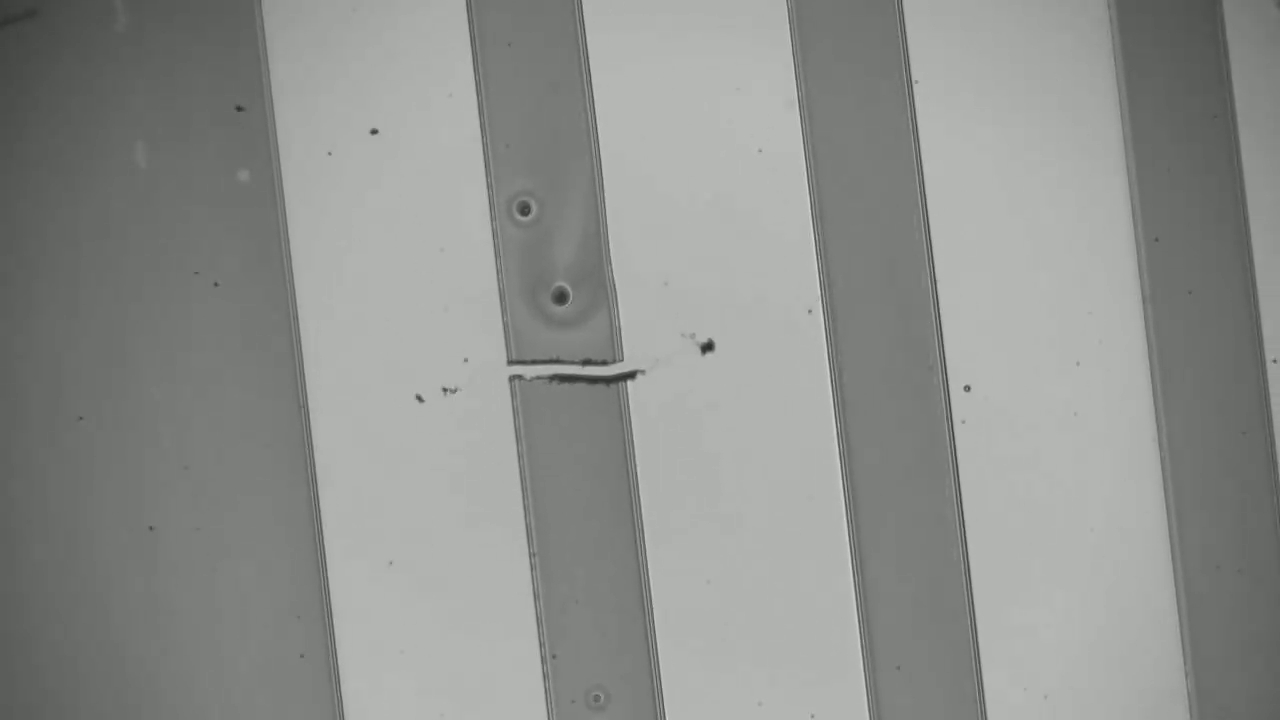Short_circuit: (492, 348, 654, 410)
